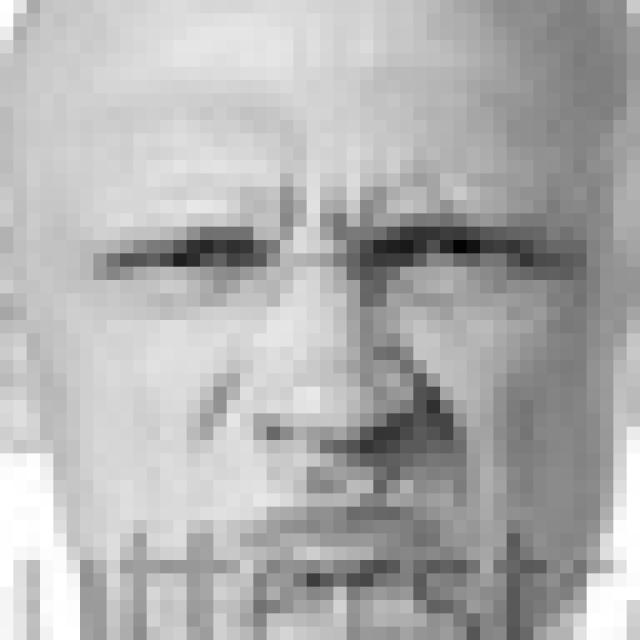disgust: (79, 171, 569, 594)
